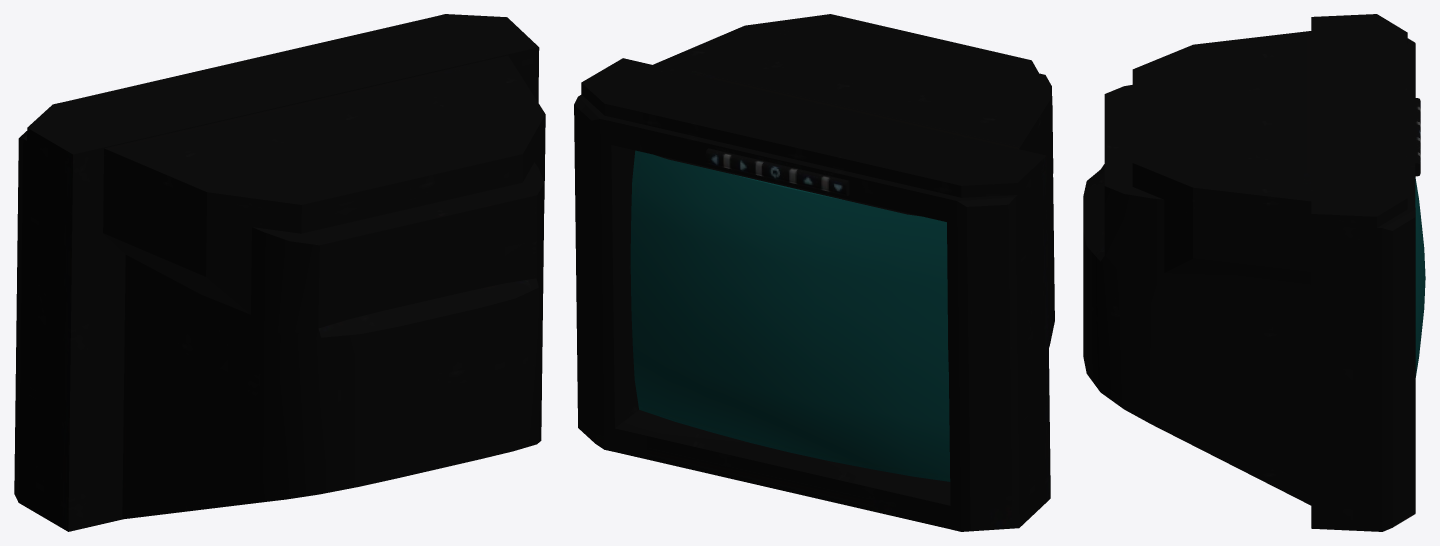
3 renders of one model, left to right at view 1: azimuth 30°, elevation 25°; view 2: azimuth 150°, elevation 25°; view 3: azimuth 270°, elevation 25°, orthographic. The views are drawn at different scales.
Parts seen in each view (by area): view 1: TV_Back1, TV_Frame, TV_Back2; view 2: TV_Frame, TV_Screen, TV_Back2, TV_Buttons, TV_Back1; view 3: TV_Frame, TV_Back1, TV_Back2, TV_Screen, TV_Buttons.
Boxes of the visible parts, x1=… form: TV_Back1: x1=122, y1=162, x2=544, y2=519; TV_Frame: x1=14, y1=14, x2=539, y2=531; TV_Back2: x1=103, y1=55, x2=545, y2=314; TV_Frame: x1=574, y1=58, x2=1050, y2=531; TV_Screen: x1=630, y1=150, x2=950, y2=481; TV_Back2: x1=653, y1=14, x2=1053, y2=182; TV_Buttons: x1=705, y1=148, x2=849, y2=195; TV_Back1: x1=1039, y1=73, x2=1054, y2=347; TV_Frame: x1=1311, y1=14, x2=1415, y2=531; TV_Back1: x1=1083, y1=85, x2=1311, y2=505; TV_Back2: x1=1132, y1=31, x2=1311, y2=284; TV_Screen: x1=1415, y1=177, x2=1425, y2=377; TV_Buttons: x1=1415, y1=98, x2=1420, y2=176.
Size of the model in its own units: 78.82 by 59.36 by 57.09.
Materials: 1 (1 with a texture image).
